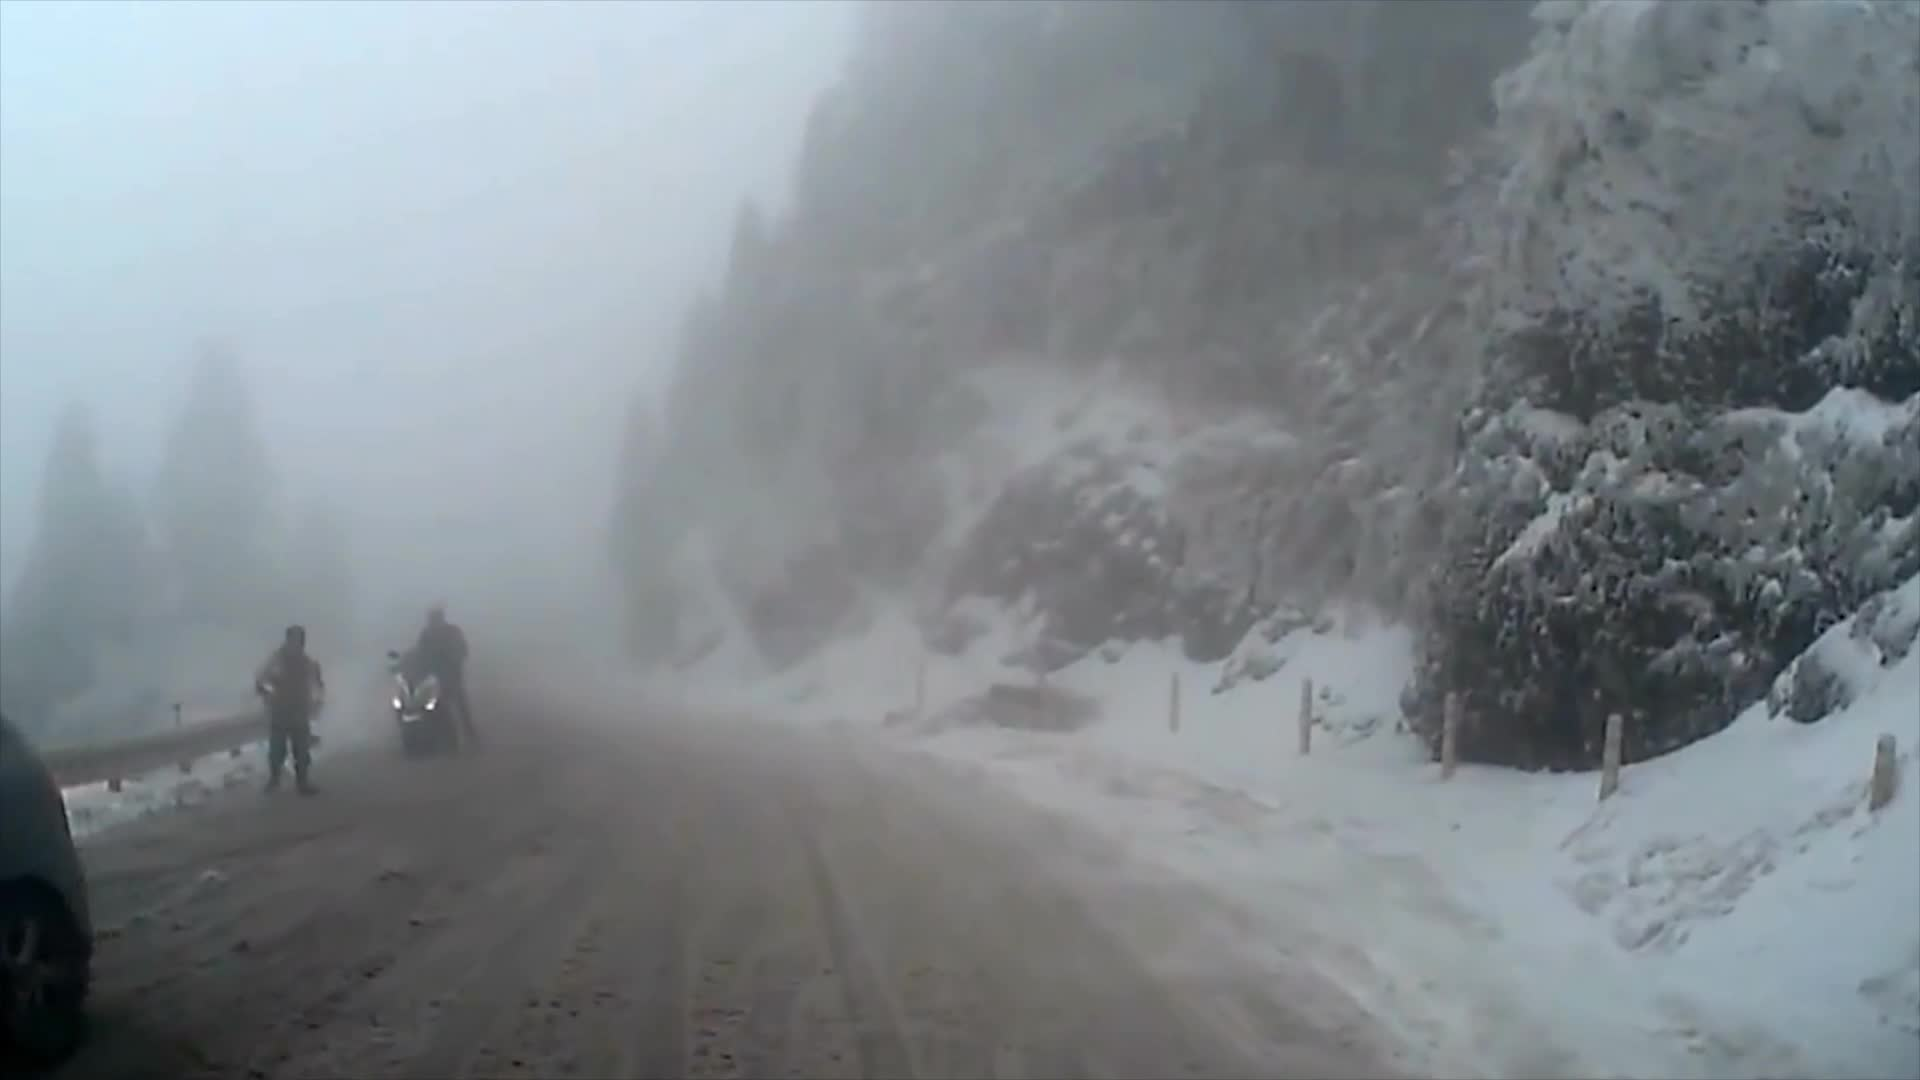pedestrian: (405, 603, 485, 759), (254, 630, 328, 800)
vehicle: (0, 719, 97, 1079)
